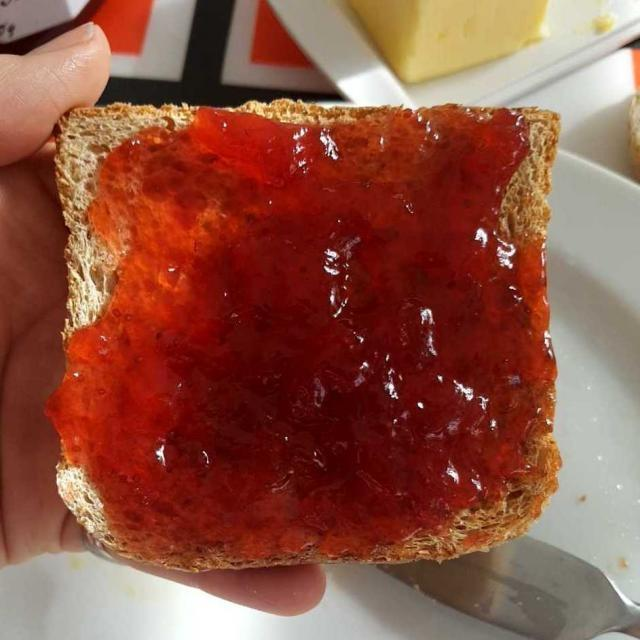bread: (59, 105, 559, 566)
jam: (59, 103, 554, 566)
